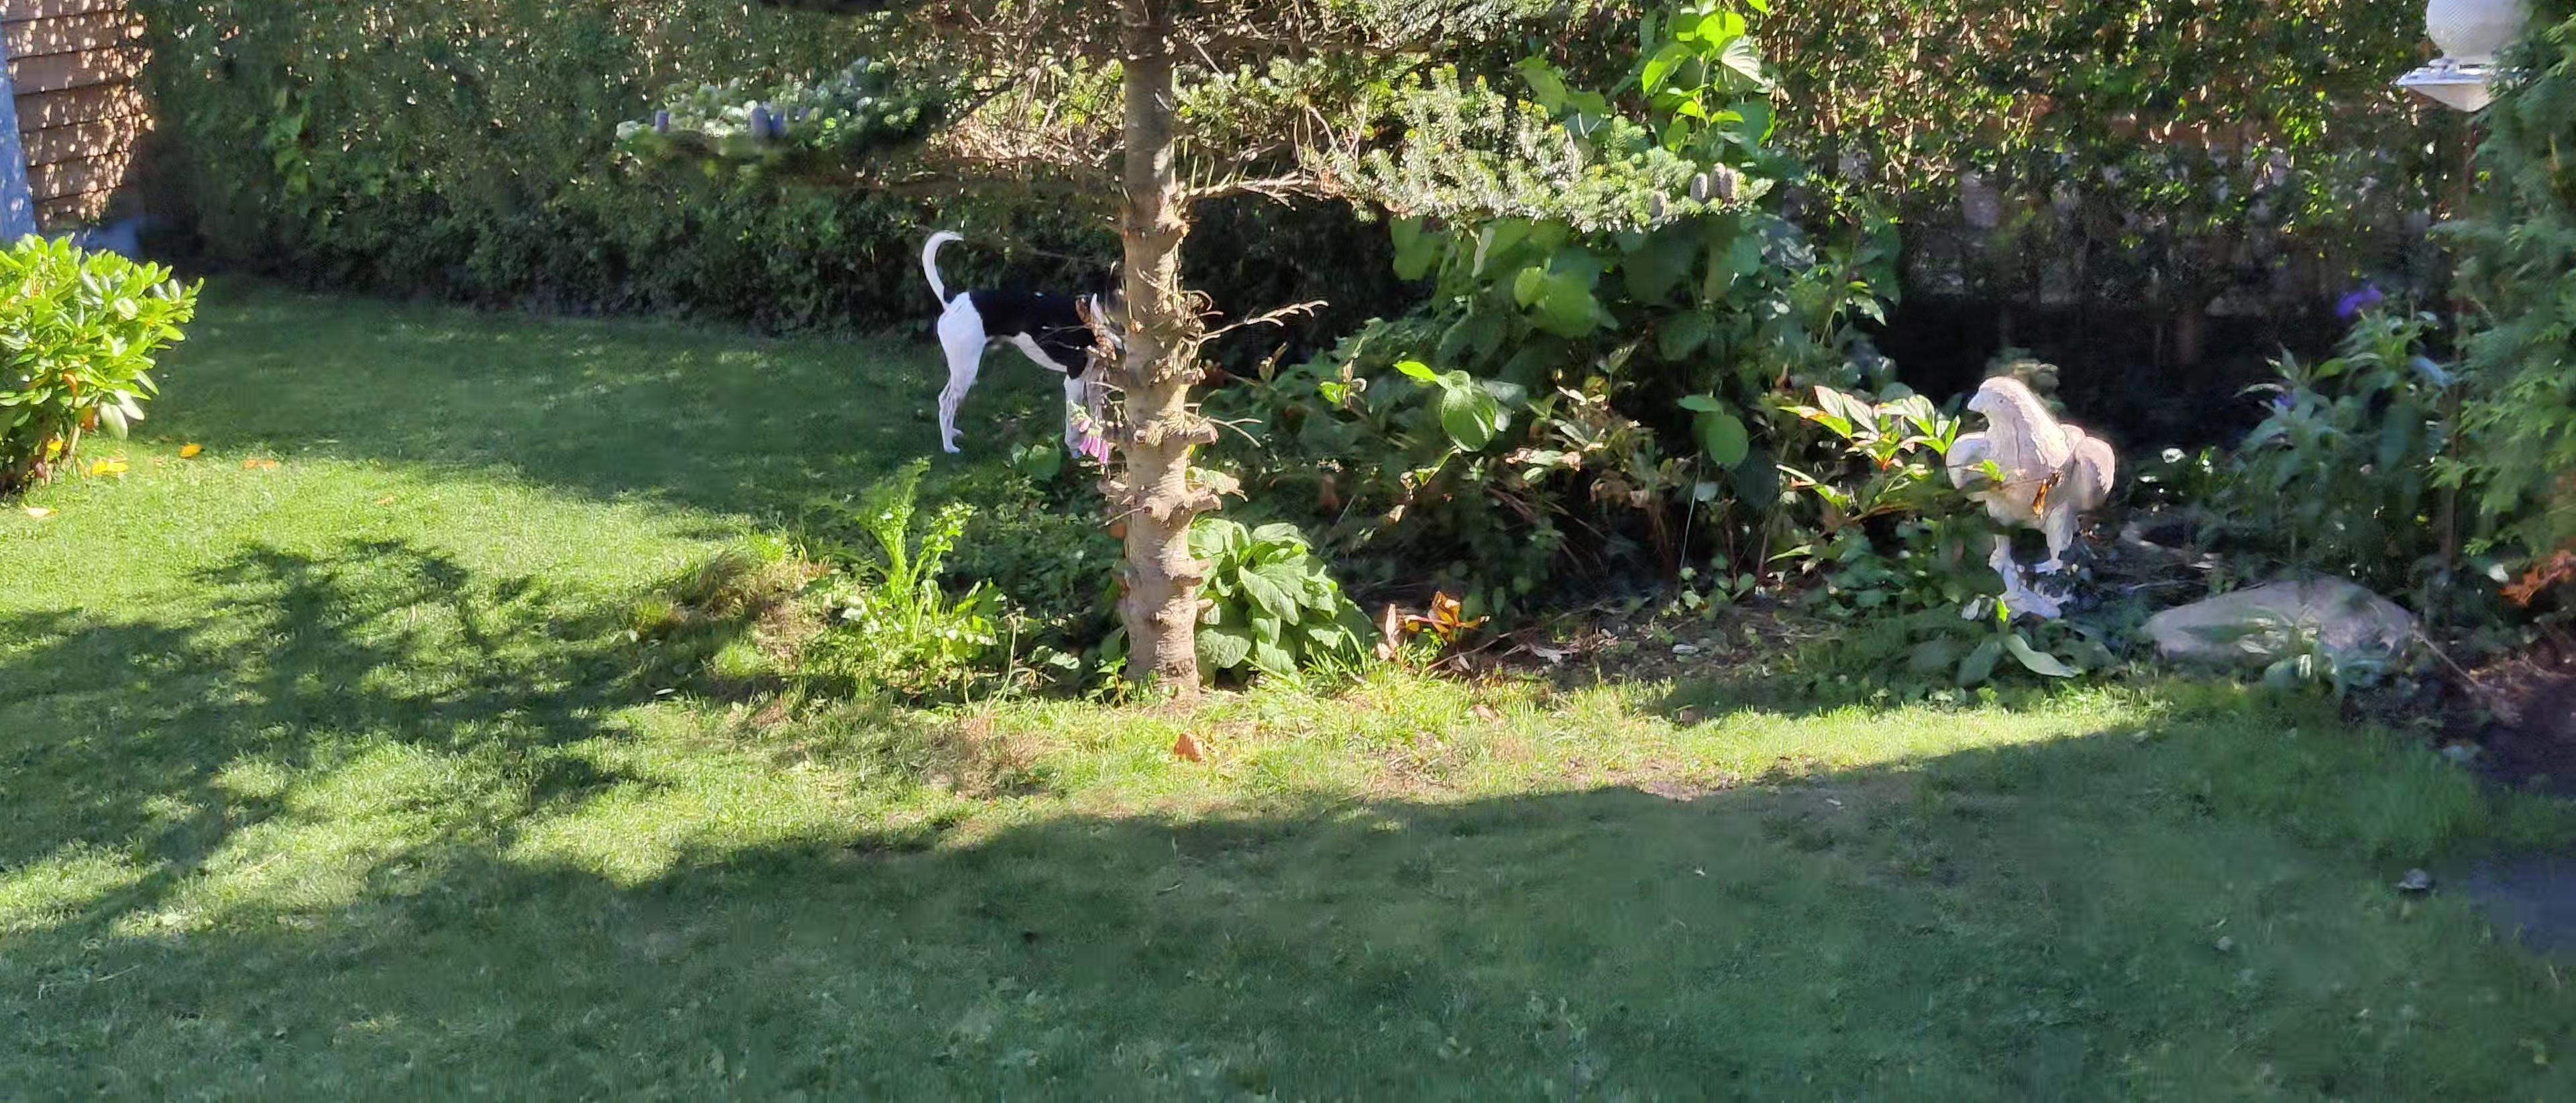Dog: (912, 228, 1132, 460)
